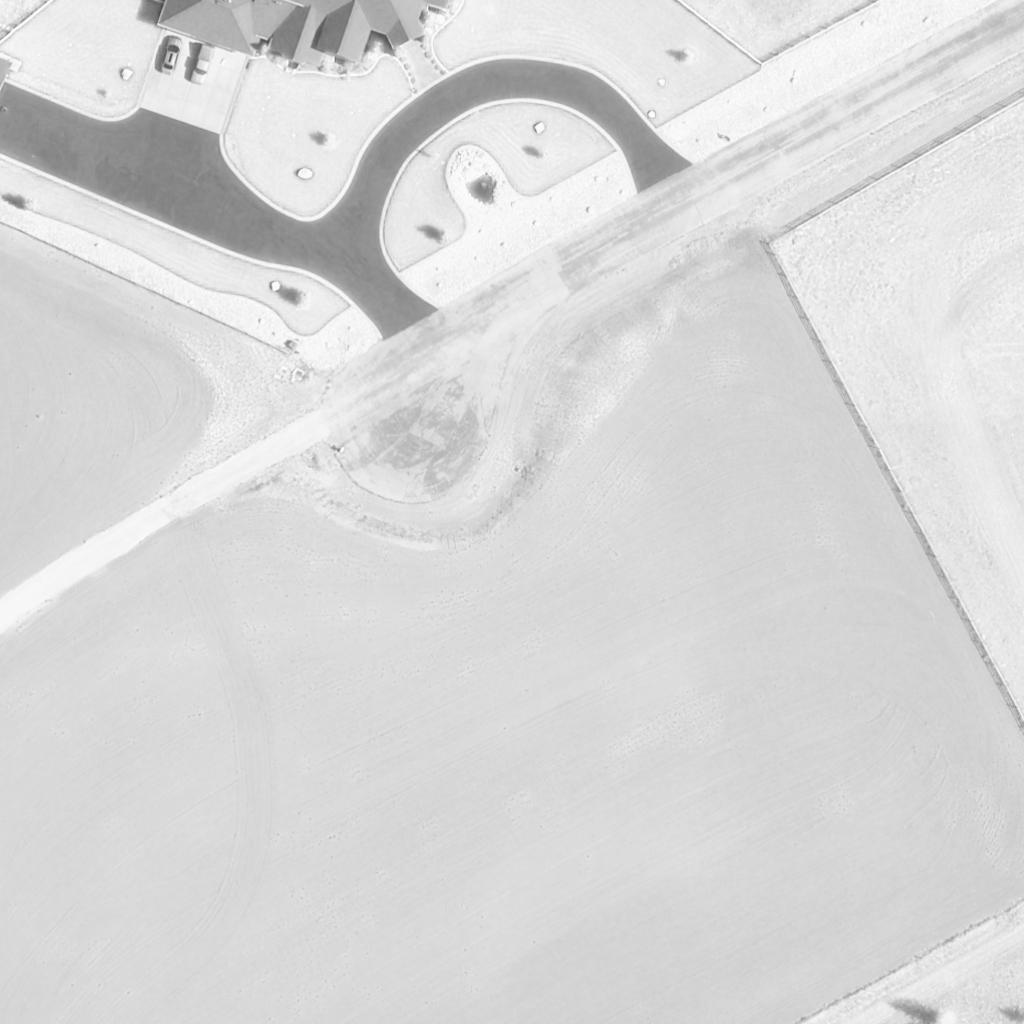vehicle: (191, 45, 215, 87), (161, 36, 183, 78)
